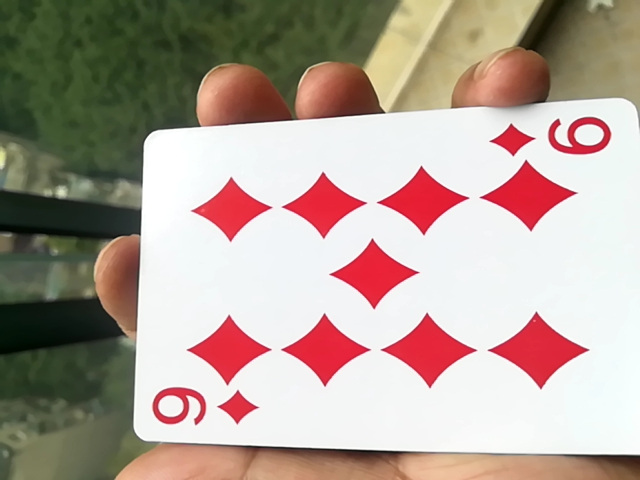fk 9: (118, 108, 638, 468)
